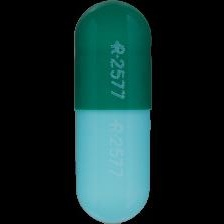49884-830: (0, 0, 224, 224)
